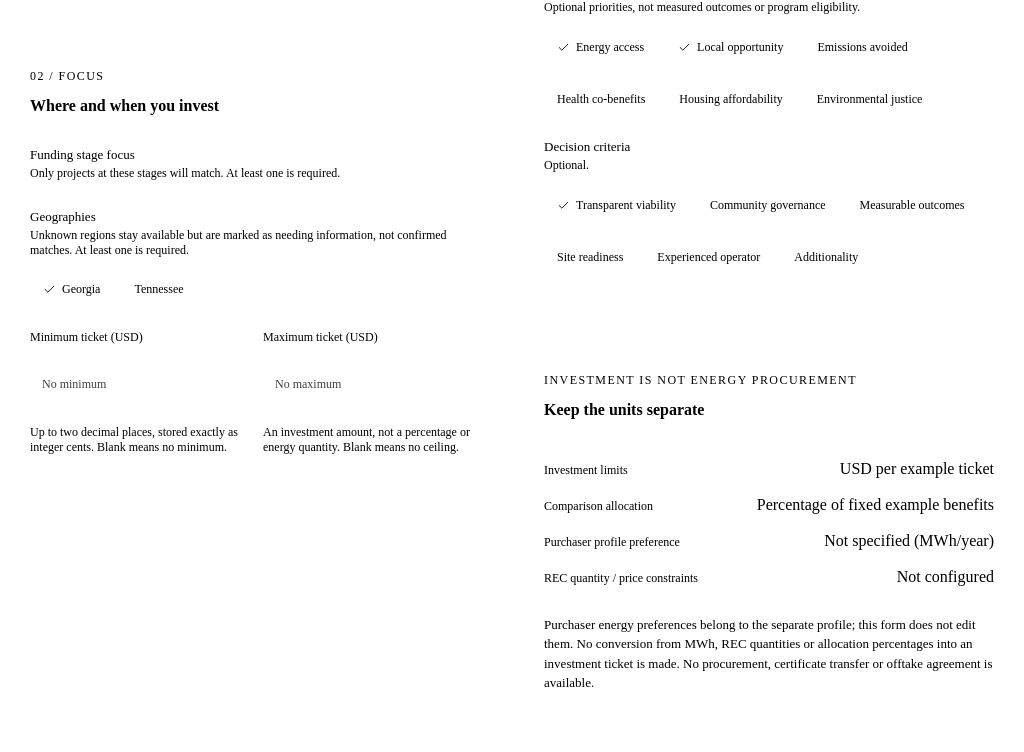
Test case: MandateView › rejects an invalid USD ticket -1 without rounding or saving
(page scrolled)
Type "-1" into the field labelled "Minimum ticket". click: (150,384)
box: [30,352,271,418]
(page scrolled)
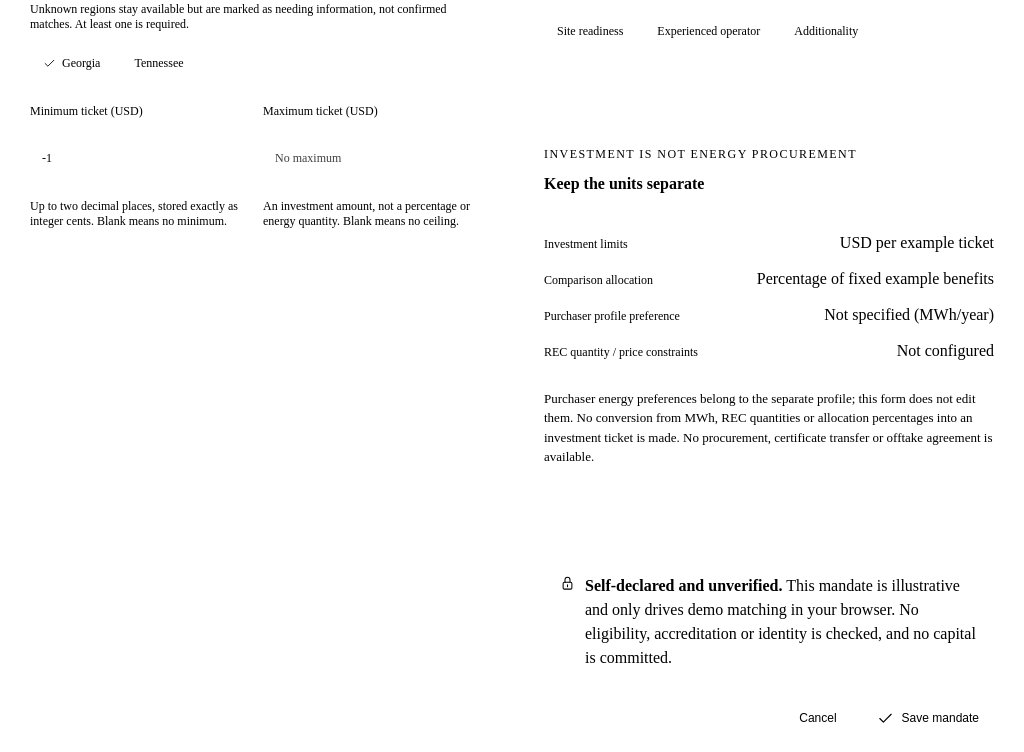
Click the button "Save mandate". click: (928,718)
box: [862,700,994,738]
(page scrolled)
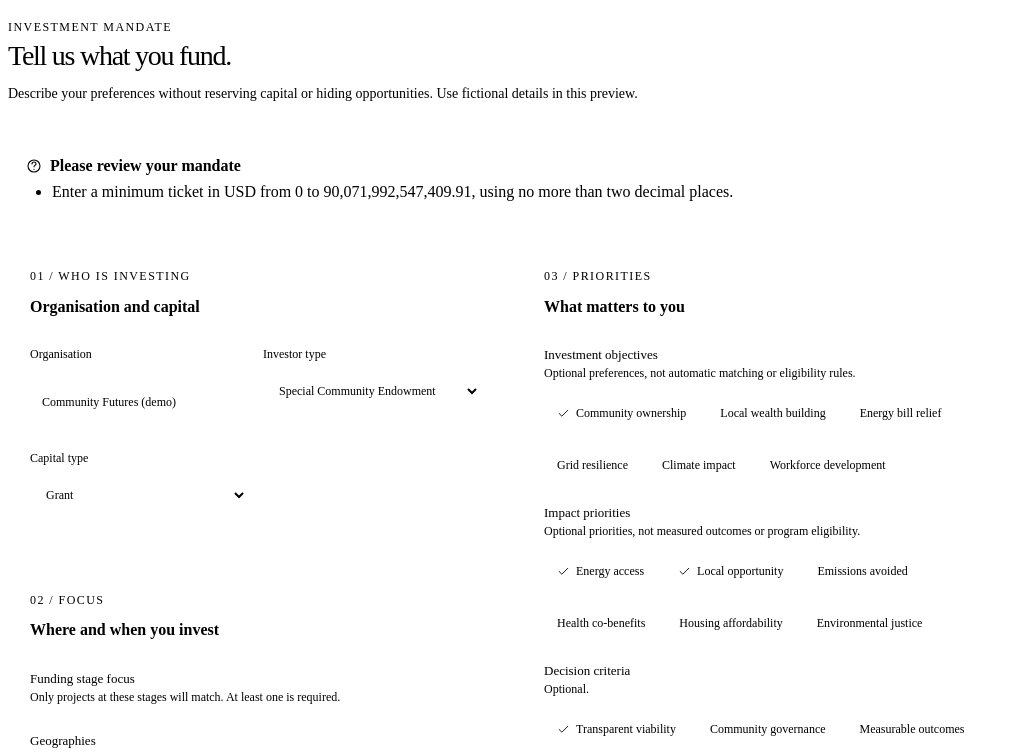
Result: the message shows "minimum ticket in USD" at [52,184,733,200]
